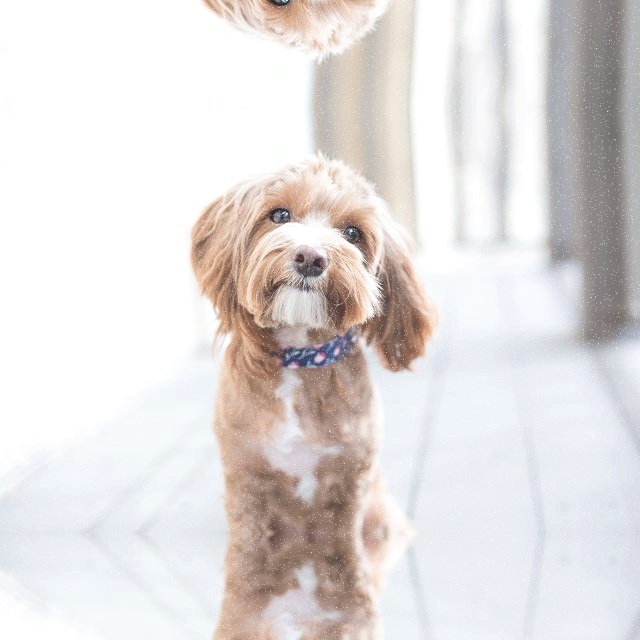dog: (176, 136, 458, 396), (176, 0, 458, 76)
